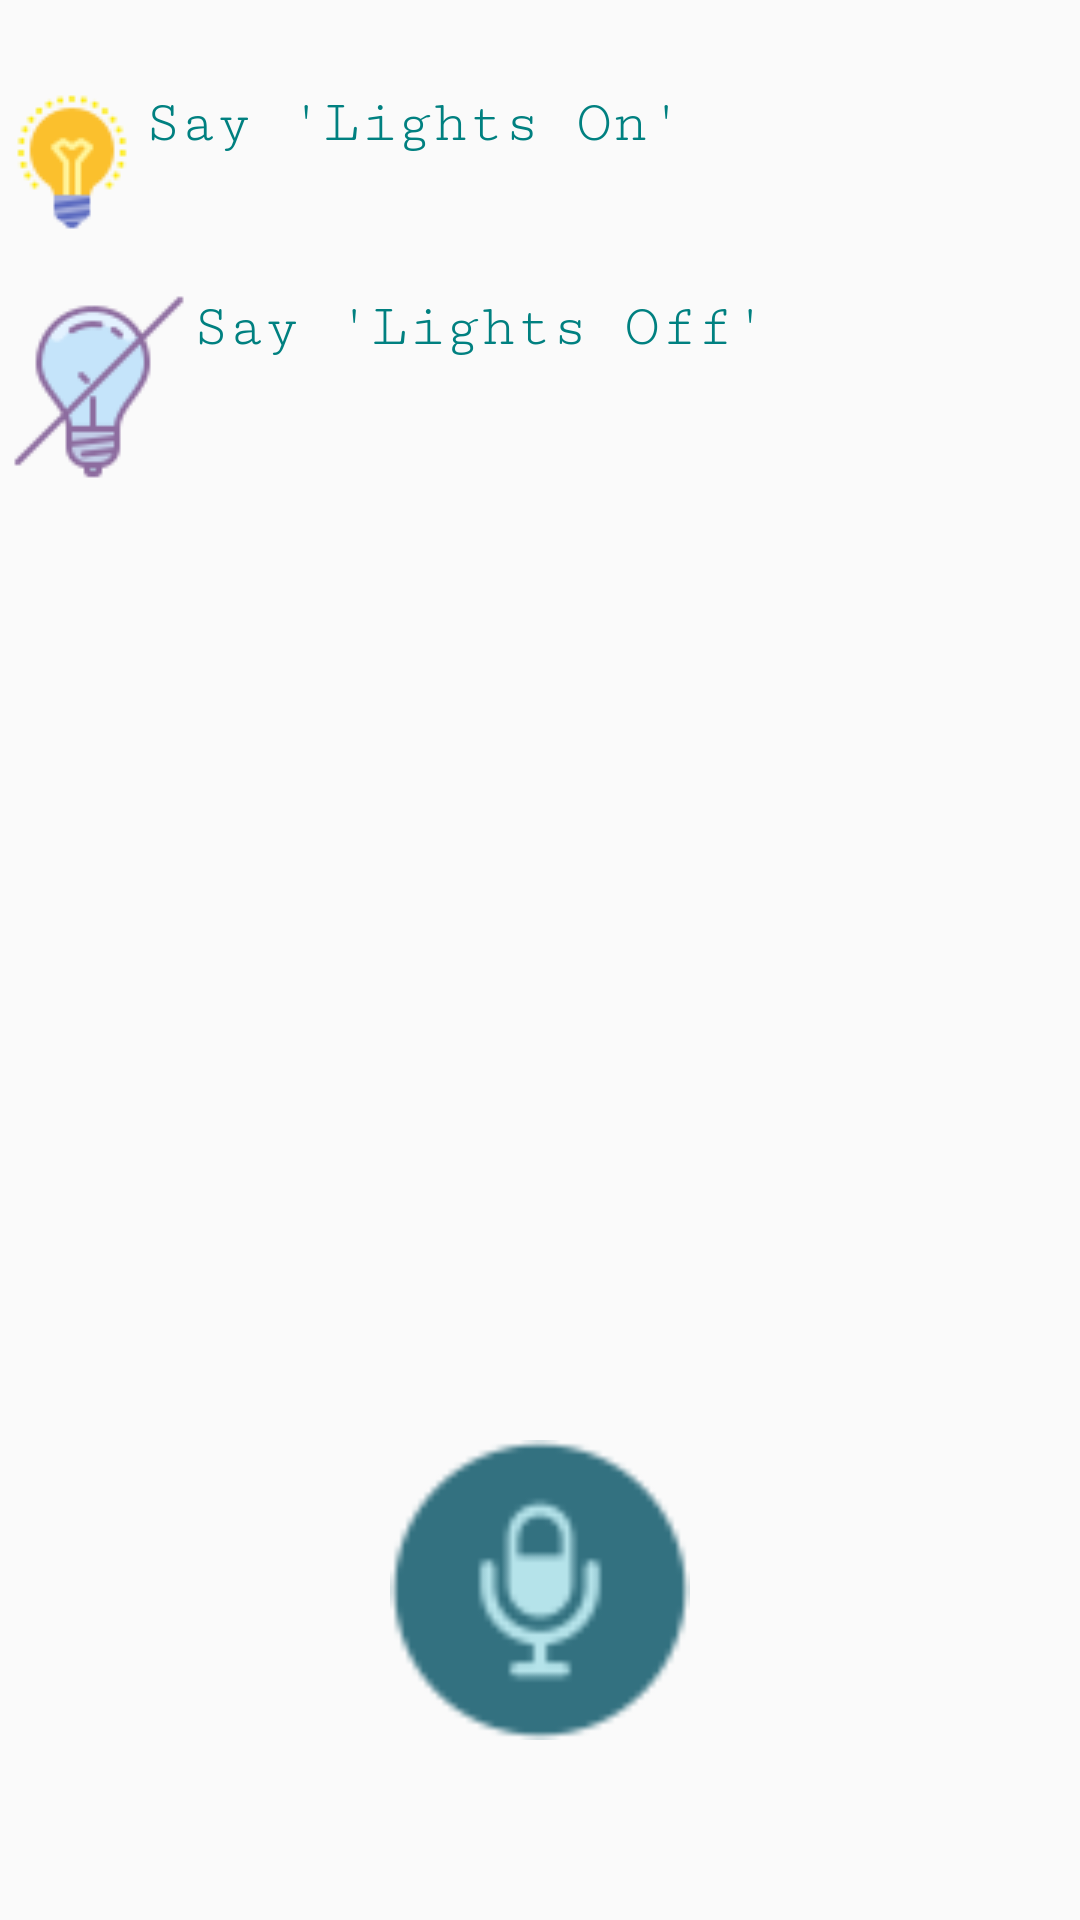

Icon click points for this 1080×1920 phone screenshot, format (x,y):
mic: (540,1590)
